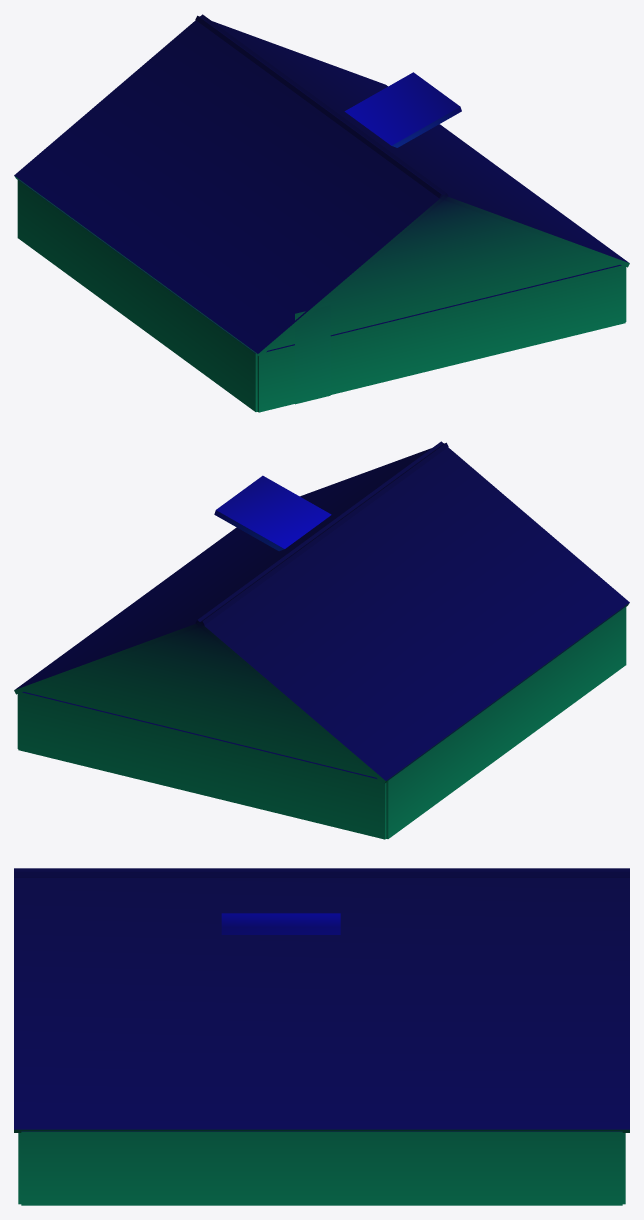
Rendered from tent_damaged.glb.
The picture shows the model from 3 angles, top to bottom: view 1: azimuth 30°, elevation 25°; view 2: azimuth 150°, elevation 25°; view 3: azimuth 270°, elevation 25°; orthographic projection. The views are drawn at different scales.
Visible parts, largest first — view 1: lod0; view 2: lod0; view 3: lod0.
Boxes of the visible parts, x1,y1,x2,y2 form: lod0: [14, 14, 629, 412]; lod0: [14, 441, 629, 839]; lod0: [14, 868, 629, 1205].
Size of what is drawn, in the model's own units: 7.3 by 3.34 by 8.3.
